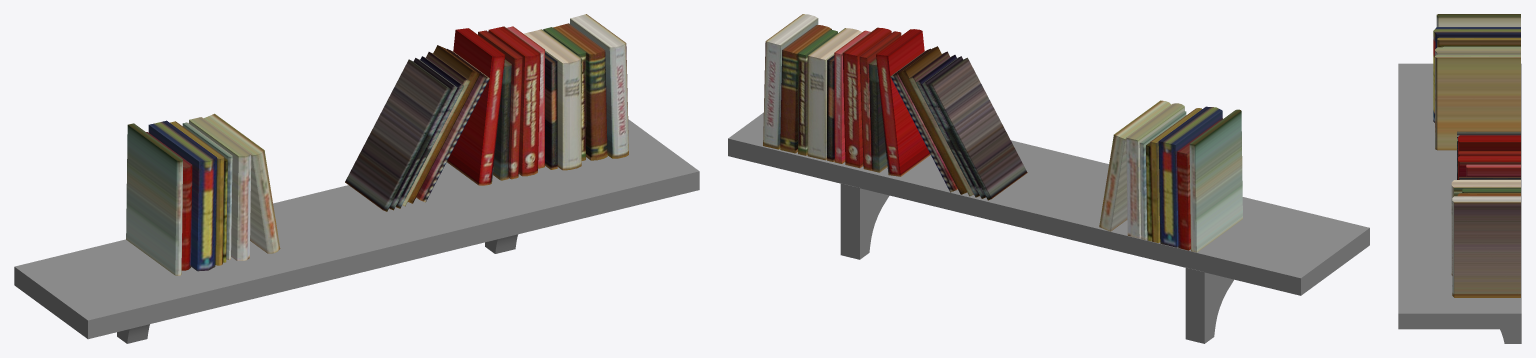
The model's file is shelf2.FBX.
3 renders of one model, left to right at view 1: azimuth 30°, elevation 25°; view 2: azimuth 150°, elevation 25°; view 3: azimuth 270°, elevation 25°, orthographic. The views are drawn at different scales.
Parts seen in each view (by area): view 1: shelf2; view 2: shelf2; view 3: shelf2.
Part boxes in pixels (x1,y1,x2,y2): shelf2: (14, 14, 699, 343); shelf2: (728, 14, 1369, 343); shelf2: (1398, 14, 1521, 343).
Size of the model in its own units: 49.91 by 10.43 by 17.51.
